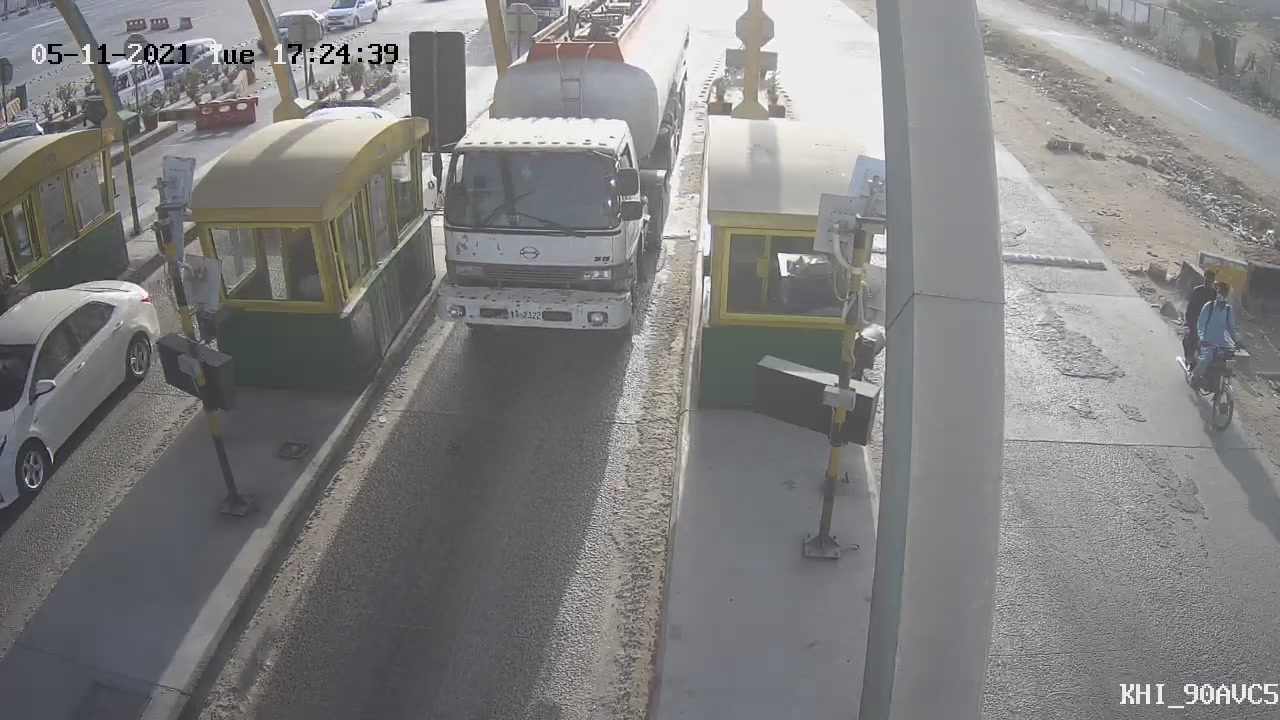F6: (394, 1, 707, 369)
